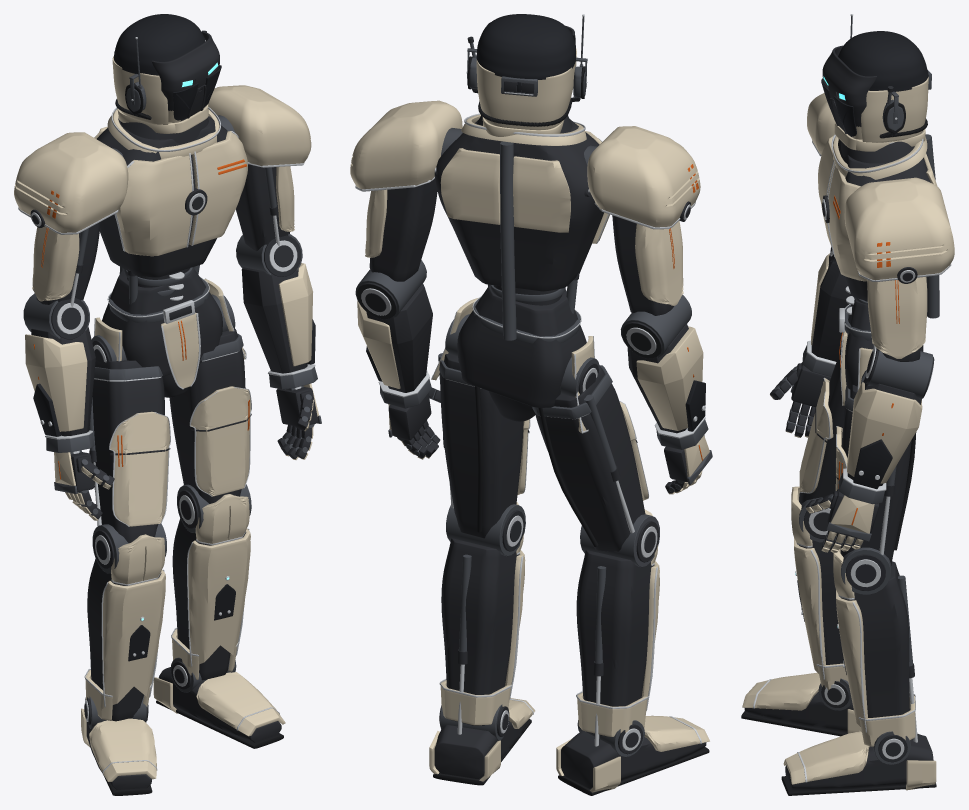
The model's file is mechanik.glb.
The picture shows the model from 3 angles, left to right: view 1: azimuth 30°, elevation 25°; view 2: azimuth 150°, elevation 25°; view 3: azimuth 270°, elevation 25°; orthographic projection. The views are drawn at different scales.
Visible parts, largest first — view 1: pauldron_r, chest_r, shin_R_shin_shell, shin_L_shin_shell, thigh_R_thigh_shell, pelvis_core, pauldron_l, thigh_L_thigh_shell, thigh_R_thigh_core, arm_R_fore_shell, torso_core, chest_l (+42 smaller); view 2: torso_core, pelvis_core, thigh_R_thigh_core, shin_R_shin_core, shin_L_shin_core, thigh_L_thigh_core, pauldron_r, pauldron_l, cap, arm_L_upper_core, arm_R_fore_shell, blade_r (+35 smaller); view 3: pauldron_l, shin_L_shin_core, arm_L_fore_shell, arm_L_upper_shell_r, cap, foot_L_toe_cap, foot_L_foot_core, shell, arm_R_fore_body, thigh_L_thigh_core, shin_L_shin_shell, shin_R_shin_shell (+36 smaller).
Boxes of the visible parts, x1=… form: pauldron_r: x1=14, y1=132, x2=128, y2=232; chest_r: x1=116, y1=155, x2=191, y2=256; shin_R_shin_shell: x1=103, y1=570, x2=165, y2=705; shin_L_shin_shell: x1=188, y1=529, x2=250, y2=664; thigh_R_thigh_shell: x1=110, y1=411, x2=169, y2=526; pelvis_core: x1=102, y1=268, x2=222, y2=376; pauldron_l: x1=208, y1=85, x2=311, y2=166; thigh_L_thigh_shell: x1=190, y1=386, x2=250, y2=496; thigh_R_thigh_core: x1=89, y1=360, x2=164, y2=543; arm_R_fore_shell: x1=25, y1=334, x2=87, y2=431; torso_core: x1=97, y1=116, x2=227, y2=277; chest_l: x1=189, y1=131, x2=247, y2=245; torso_core: x1=434, y1=119, x2=603, y2=291; pelvis_core: x1=457, y1=285, x2=586, y2=407; thigh_R_thigh_core: x1=535, y1=365, x2=645, y2=551; shin_R_shin_core: x1=576, y1=550, x2=653, y2=736; shin_L_shin_core: x1=441, y1=538, x2=519, y2=725; thigh_L_thigh_core: x1=440, y1=353, x2=523, y2=538; pauldron_r: x1=587, y1=126, x2=700, y2=227; pauldron_l: x1=350, y1=100, x2=462, y2=189; cap: x1=476, y1=14, x2=575, y2=79; arm_L_upper_core: x1=369, y1=178, x2=437, y2=281; arm_R_fore_shell: x1=636, y1=326, x2=703, y2=430; blade_r: x1=513, y1=156, x2=570, y2=232; pauldron_l: x1=844, y1=177, x2=954, y2=280; shin_L_shin_core: x1=840, y1=561, x2=909, y2=717; arm_L_fore_shell: x1=847, y1=382, x2=922, y2=483; arm_L_upper_shell_r: x1=867, y1=277, x2=927, y2=358; cap: x1=838, y1=31, x2=928, y2=91; foot_L_toe_cap: x1=783, y1=731, x2=869, y2=784; foot_L_foot_core: x1=785, y1=733, x2=933, y2=790; shell: x1=861, y1=77, x2=928, y2=142; arm_R_fore_body: x1=811, y1=255, x2=851, y2=361; thigh_L_thigh_core: x1=840, y1=385, x2=911, y2=565; shin_L_shin_shell: x1=836, y1=590, x2=867, y2=726; shin_R_shin_shell: x1=794, y1=538, x2=825, y2=673.
Bounding box in the file's own units: 0.7307 × 1.71 × 0.4573.
